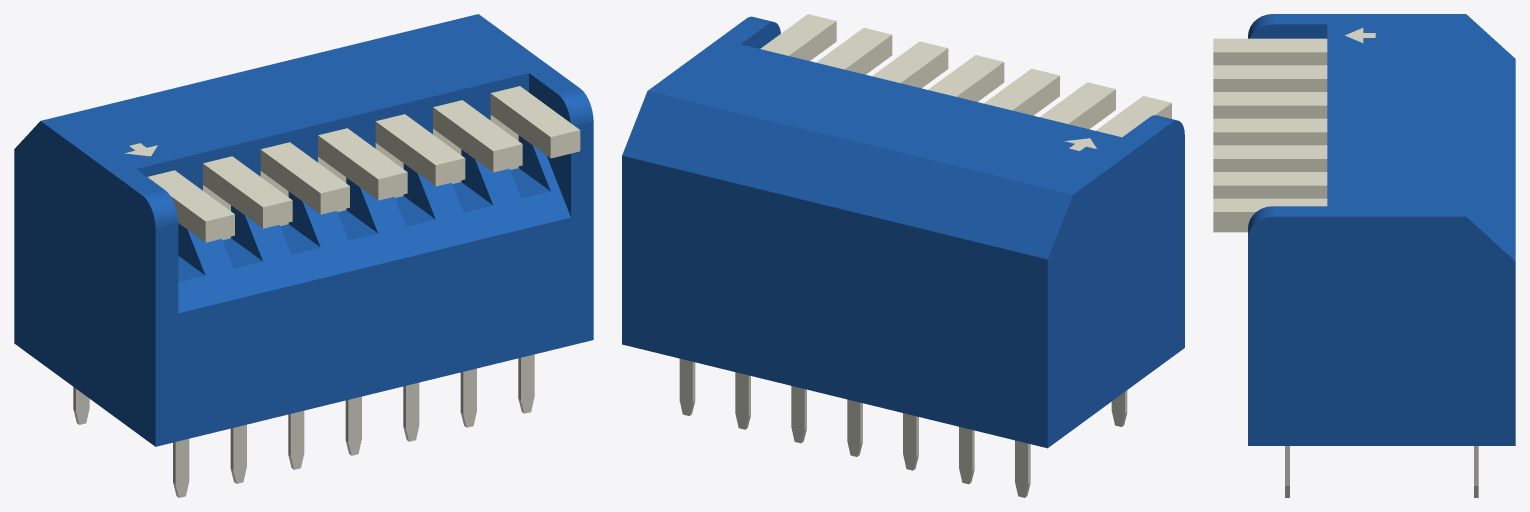
File: kc-sw_dip_spstx07_piano_10.8x19.34mm_w7.62mm_p2.54mm.glb
The picture shows the model from 3 angles, left to right: view 1: azimuth 30°, elevation 25°; view 2: azimuth 150°, elevation 25°; view 3: azimuth 270°, elevation 25°; orthographic projection. The views are drawn at different scales.
Parts seen in each view (by area): view 1: 0_0.16666666666666666_0.5_0, 0.75_0.75_0.6666666666666666_0, 0.6666666666666666_0.6666666666666666_0.5833333333333334_0.8; view 2: 0_0.16666666666666666_0.5_0, 0.75_0.75_0.6666666666666666_0, 0.6666666666666666_0.6666666666666666_0.5833333333333334_0.8; view 3: 0_0.16666666666666666_0.5_0, 0.75_0.75_0.6666666666666666_0, 0.6666666666666666_0.6666666666666666_0.5833333333333334_0.8.
Boxes of the visible parts, x1=… form: 0_0.16666666666666666_0.5_0: x1=14, y1=14, x2=593, y2=446; 0.75_0.75_0.6666666666666666_0: x1=125, y1=86, x2=580, y2=242; 0.6666666666666666_0.6666666666666666_0.5833333333333334_0.8: x1=73, y1=354, x2=534, y2=497; 0_0.16666666666666666_0.5_0: x1=622, y1=16, x2=1184, y2=448; 0.75_0.75_0.6666666666666666_0: x1=760, y1=14, x2=1171, y2=150; 0.6666666666666666_0.6666666666666666_0.5833333333333334_0.8: x1=679, y1=358, x2=1127, y2=497; 0_0.16666666666666666_0.5_0: x1=1248, y1=14, x2=1515, y2=445; 0.75_0.75_0.6666666666666666_0: x1=1213, y1=28, x2=1375, y2=232; 0.6666666666666666_0.6666666666666666_0.5833333333333334_0.8: x1=1285, y1=446, x2=1478, y2=497.
Size of the model in its own units: 1.93 by 1.34 by 1.22.
